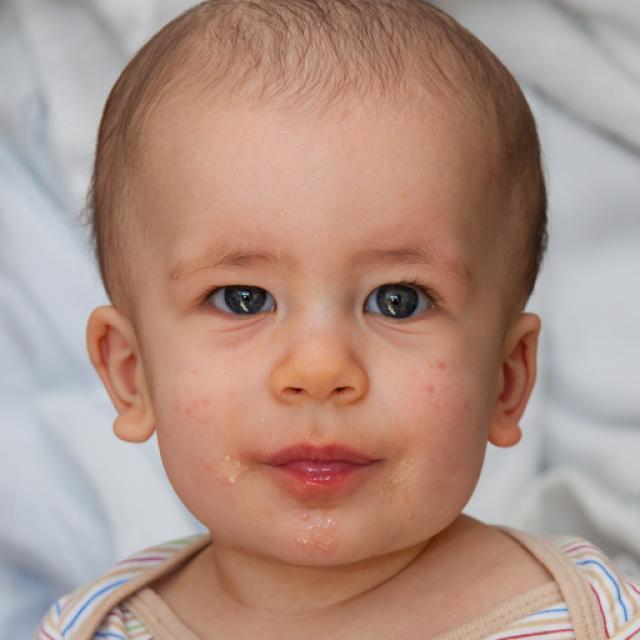neutral: (141, 77, 499, 564)
